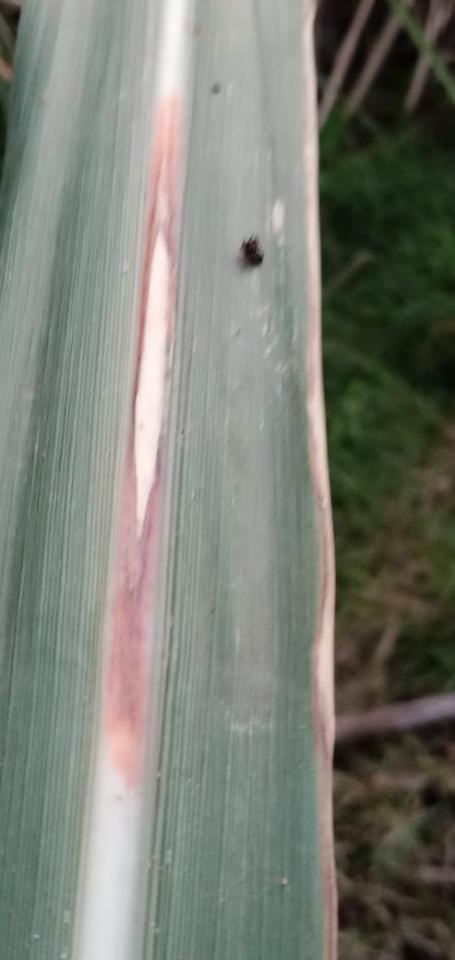RedRot: (107, 104, 179, 796)
